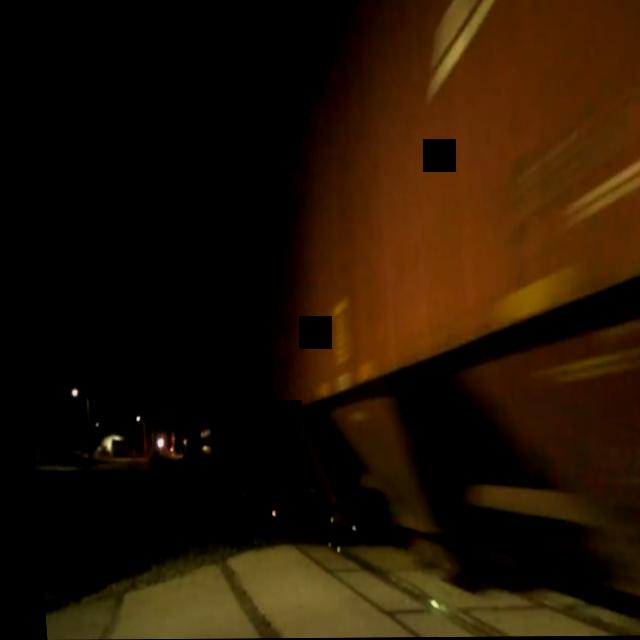hopper: (227, 0, 640, 639)
